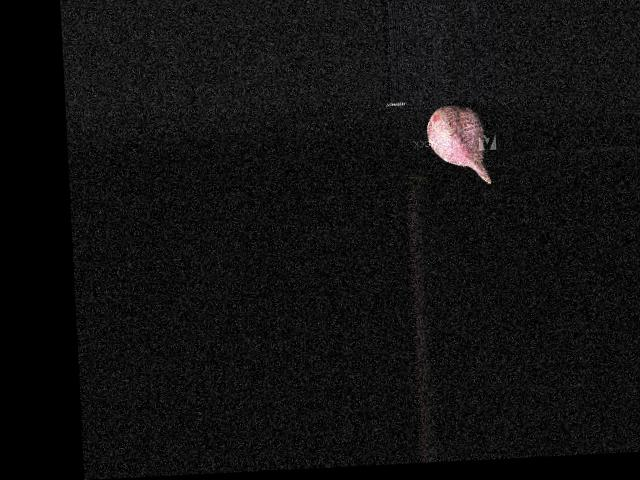beet: (425, 103, 490, 186)
